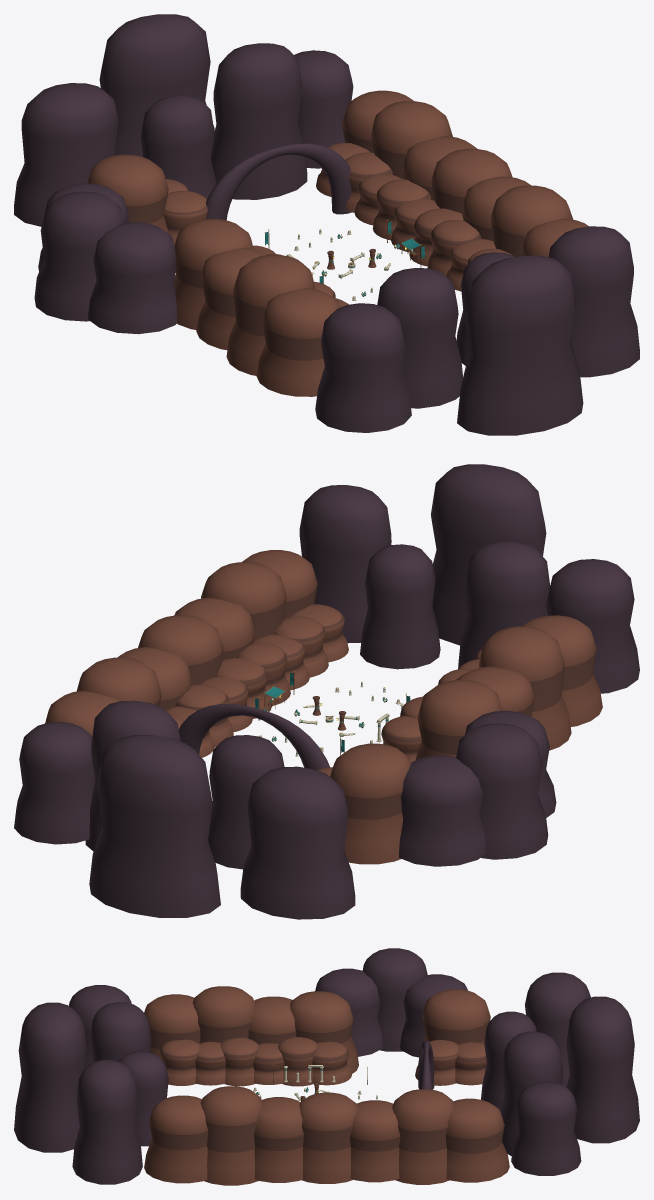
File: canyon.glb
3 views of the same model, one above another, from view 1: azimuth 30°, elevation 25°; view 2: azimuth 150°, elevation 25°; view 3: azimuth 270°, elevation 25° (orthographic). The views are drawn at different scales.
Parts seen in each view (by area): view 1: back; view 2: back; view 3: back.
Part boxes in pixels (left/top/right/bottom): back: left=14, top=14, right=639, bottom=435; back: left=14, top=464, right=639, bottom=919; back: left=14, top=948, right=639, bottom=1185.
Bounding box in the file's own units: 115 × 38.75 × 183.
